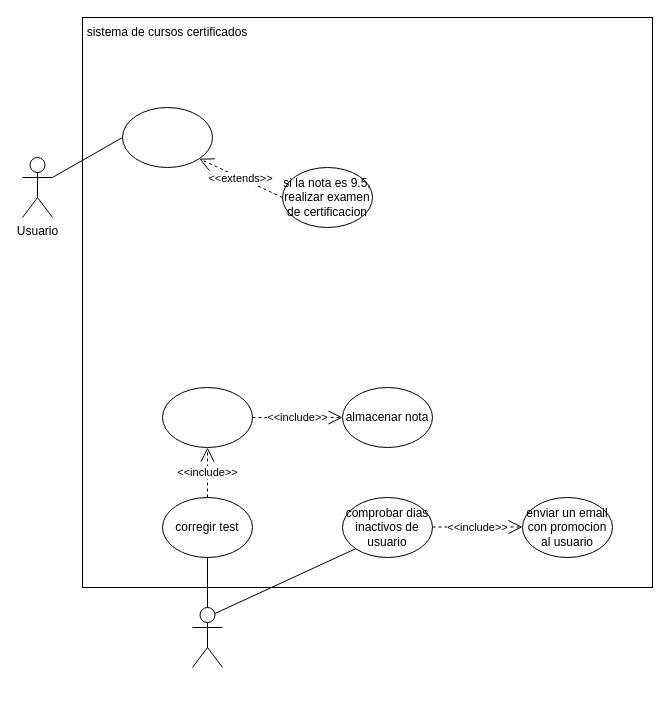
Some shapes in this 670 by 706 pixel diagram are drawn without their labels. The shapes that lost their labels are listed below. From the top down, each one's centre as x and y in pixels, then its label:
At [167,137]: "realizar test de prueba".
At [207,417]: "mostrar nota al usuario".
At [207,637]: "Servidor".
